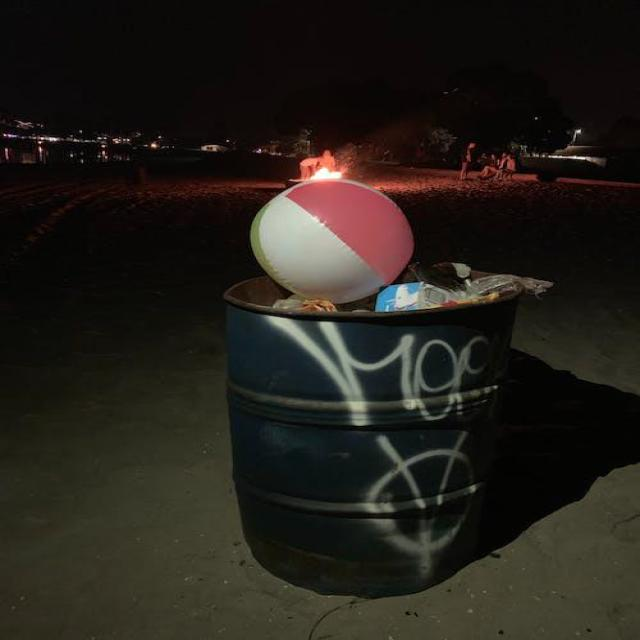metal: (210, 279, 516, 591)
plastic: (411, 258, 545, 314)
